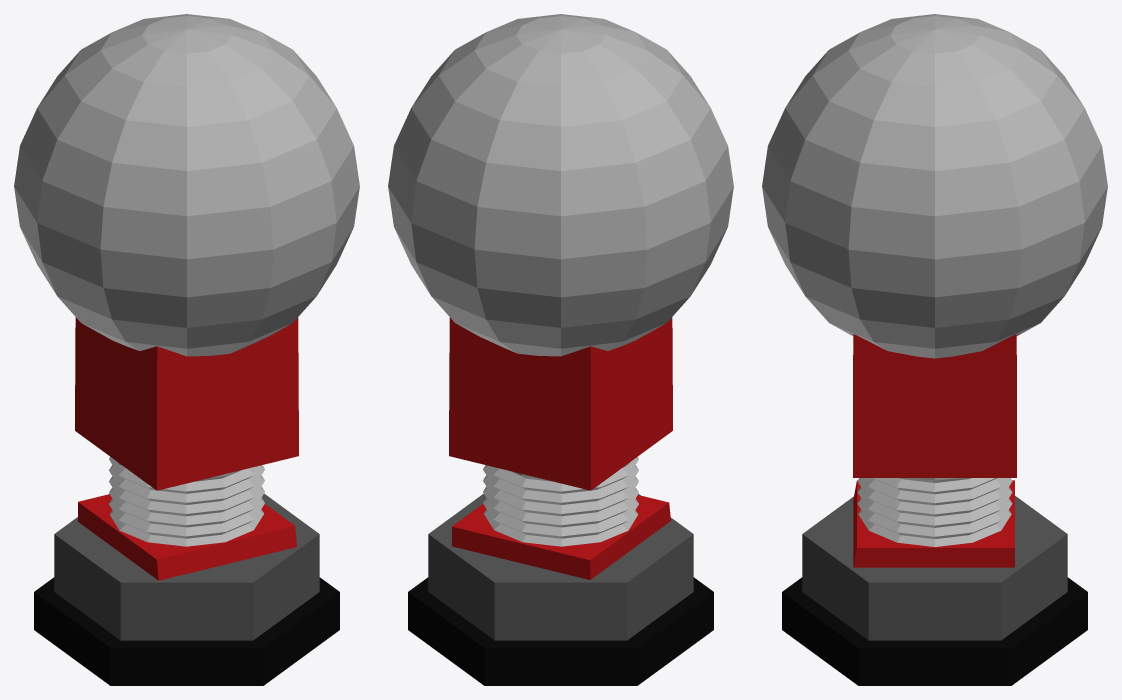
Rendered from tesla_coil.fbx.
The picture shows the model from 3 angles, left to right: view 1: azimuth 30°, elevation 25°; view 2: azimuth 150°, elevation 25°; view 3: azimuth 270°, elevation 25°; orthographic projection.
Visible parts, largest first — view 1: Mesh; view 2: Mesh; view 3: Mesh.
Part boxes in pixels (x1=…): Mesh: x1=14, y1=14, x2=359, y2=685; Mesh: x1=388, y1=14, x2=733, y2=685; Mesh: x1=762, y1=14, x2=1107, y2=685.
Size of the model in its own units: 0.6495 by 1.24 by 0.6495.
